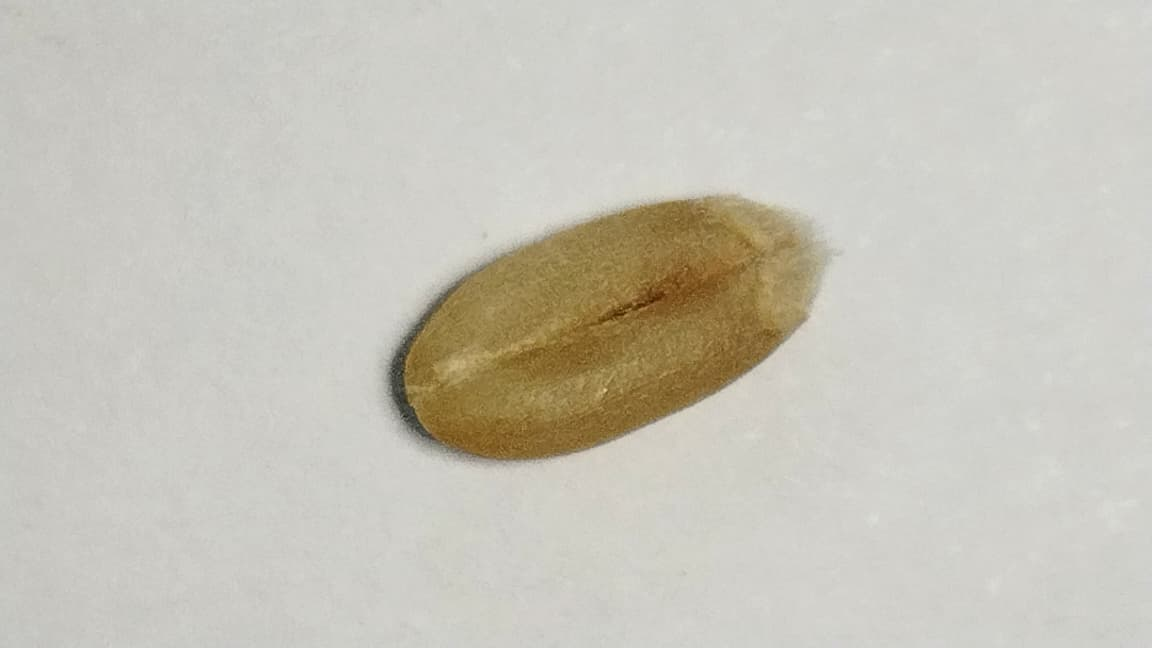healthy: (391, 196, 835, 467)
